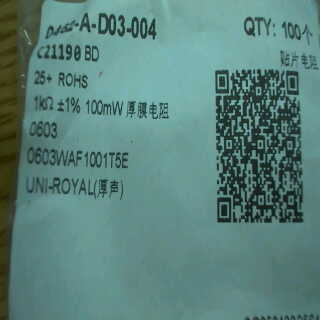1kR: (27, 92, 54, 116)
